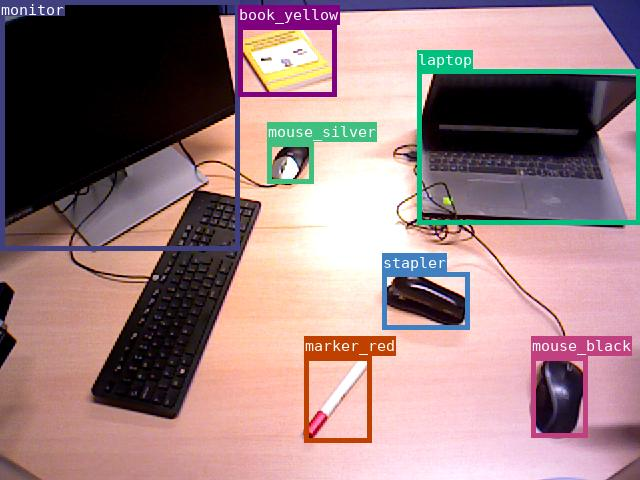book_yellow: (238, 25, 336, 96)
laptop: (417, 69, 640, 224)
marker_red: (304, 356, 371, 442)
monitor: (0, 0, 239, 250)
mouse_black: (531, 356, 587, 437)
mouse_silver: (267, 142, 313, 183)
stapler: (382, 272, 469, 329)
